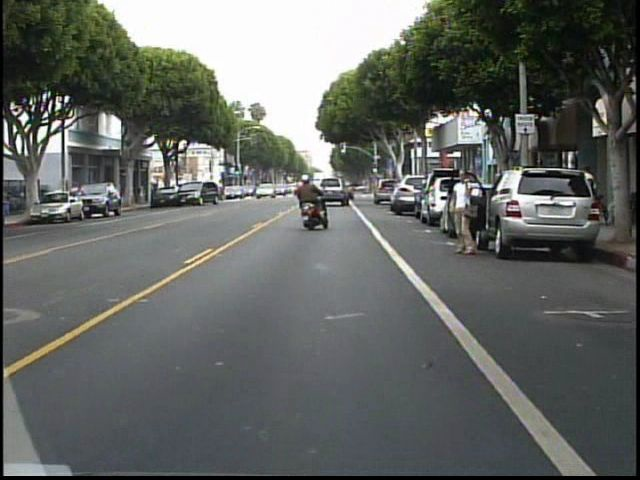person: (450, 167, 479, 260), (289, 170, 329, 229)
